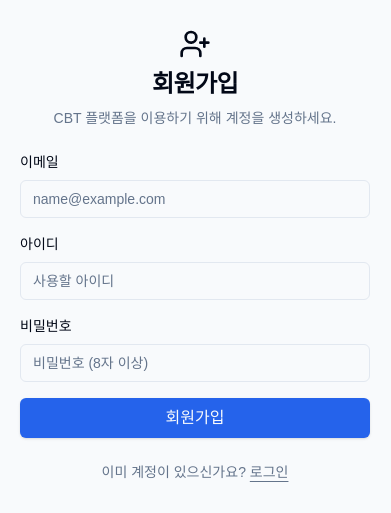
Test case: focuses the invalid password without sending a signup request
In the field labelled "이메일": (195, 199) left=20, top=180, right=370, bottom=218, type "user@example.com"
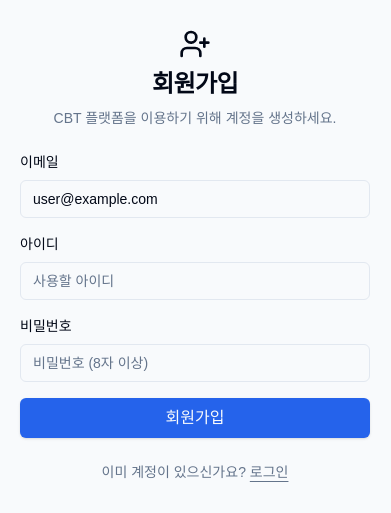
In the field labelled "아이디": (195, 281) left=20, top=262, right=370, bottom=300, type "user"
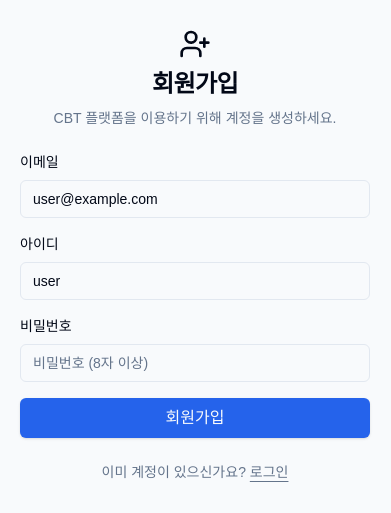
In the password field labelled "비밀번호": (195, 363) left=20, top=344, right=370, bottom=382, type "short"
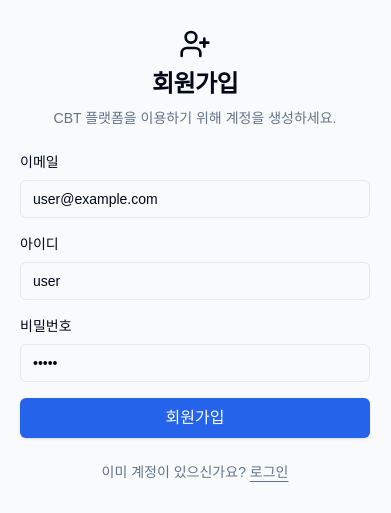
Click the button "회원가입": (195, 418) left=20, top=398, right=370, bottom=438
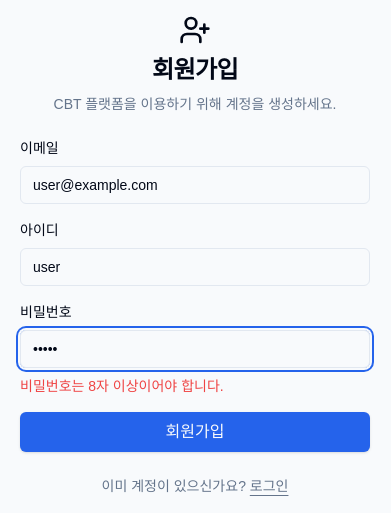
Check: the message "비밀번호는 8자 이상이어야 합니다." is shown, box left=20, top=378, right=224, bottom=394
